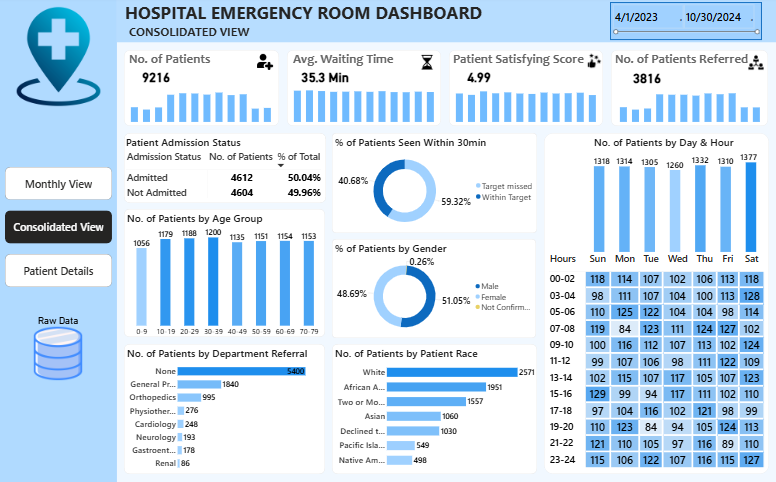

What the dashboard file says about the page in this screenshot:
{"tool":"powerbi","page":{"name":"Consolidated View","canvas":[4350,2700],"ordinal":1},"visuals":[{"type":"shape","box":[3422.6,280.1,879.5,425.7],"z":0},{"type":"shape","box":[694.6,745,1131.5,392.1],"z":1000},{"type":"shape","box":[0,0,655.4,2700],"z":2000},{"type":"shape","box":[658.1,0,3695,237.3],"z":3000},{"type":"textbox","box":[695.9,0,2049.8,172.6],"z":4000},{"type":"textbox","box":[717,128.8,705.8,100.8],"z":5000},{"type":"shape","box":[694.6,280.1,868.3,425.7],"z":6000},{"type":"card","fields":{"Values":["Hospital ER_Data.No. of Patients"]},"box":[733.8,364.1,280.1,123.2],"z":7000},{"type":"slicer","fields":{"Values":["Date Table.Date"]},"box":[3417,11.2,851.5,212.9],"z":8000},{"type":"textbox","box":[717.4,280.5,517.8,107.9],"z":9000},{"type":"columnChart","fields":{"Y":["Hospital ER_Data.No. of Patients"],"Category":["Date Table.Month Name"]},"box":[728.2,476.1,795.4,212.9],"z":10000},{"type":"shape","box":[1607.7,280.1,862.7,425.7],"z":11000},{"type":"card","fields":{"Values":["Hospital ER_Data.Avg Waiting Time"]},"box":[1674.9,364.1,291.3,123.2],"z":12000},{"type":"textbox","box":[1635.7,280.1,610.6,106.4],"z":13000},{"type":"columnChart","fields":{"Category":["Date Table.Month Name"],"Y":["Avg(Hospital ER_Data.Patient Waittime)"]},"box":[1641.3,476.1,795.4,212.9],"z":14000},{"type":"shape","box":[2515.1,280.1,862.7,425.7],"z":15000},{"type":"textbox","box":[2532,280.1,817.8,106.4],"z":16000},{"type":"card","fields":{"Values":["Avg(Hospital ER_Data.Patient Satisfaction Score)"]},"box":[2560,358.5,246.5,134.4],"z":17000},{"type":"columnChart","fields":{"Category":["Date Table.Month Name"],"Y":["Avg(Hospital ER_Data.Patient Satisfaction Score)"]},"box":[2548.8,476.1,795.4,212.9],"z":18000},{"type":"textbox","box":[3439.4,280.1,789.8,106.4],"z":19000},{"type":"card","fields":{"Values":["Hospital ER_Data.N. of Patients Referred"]},"box":[3461.8,364.1,324.9,128.8],"z":20000},{"type":"columnChart","fields":{"Category":["Date Table.Month Name"],"Y":["Hospital ER_Data.No. of Patients Referred"]},"box":[3467.4,476.1,795.4,212.9],"z":21000},{"type":"pivotTable","title":"Patient Admission Status","fields":{"Rows":["Hospital ER_Data.Admission Status"],"Values":["Hospital ER_Data.No. of Patients1","Hospital ER_Data.No. of Patients"]},"box":[700.2,756.2,1109.1,364.1],"z":22000},{"type":"shape","box":[694.6,1170.7,1125.9,717],"z":23000},{"type":"columnChart","fields":{"Category":["Hospital ER_Data.Age Group"],"Y":["Hospital ER_Data.No. of Patients"]},"box":[705.8,1182,1114.7,711.4],"z":24000},{"type":"shape","box":[694.6,1927,1125.9,728.2],"z":25000},{"type":"barChart","fields":{"Y":["Hospital ER_Data.No. of Patients"],"Category":["Hospital ER_Data.Department Referral"]},"box":[705.8,1938.2,1103.5,717],"z":26000},{"type":"shape","box":[1859.8,745,1148.3,560.2],"z":27000},{"type":"donutChart","title":"% of Patients Seen Within 30min","fields":{"Category":["Hospital ER_Data.Waittime Status"],"Y":["Hospital ER_Data.No. of Patients"]},"box":[1871,756.2,1125.9,549],"z":28000},{"type":"shape","box":[1859.8,1338.8,1142.7,554.6],"z":29000},{"type":"donutChart","title":"% of Patients by Gender","fields":{"Y":["Hospital ER_Data.No. of Patients"],"Category":["Hospital ER_Data.Patient Gender"]},"box":[1871,1350,1125.9,543.4],"z":30000},{"type":"shape","box":[1859.8,1927,1148.3,728.2],"z":31000},{"type":"barChart","fields":{"Y":["Hospital ER_Data.No. of Patients"],"Category":["Hospital ER_Data.Patient Race"]},"box":[1871,1938.2,1131.5,705.8],"z":32000},{"type":"shape","box":[3047.3,745,1260.4,1910.2],"z":33000},{"type":"pivotTable","fields":{"Rows":["Hospital ER_Data.Waittime Interval"],"Columns":["Date Table.Day Name"],"Values":["Hospital ER_Data.No. of Patients"]},"box":[3069.7,1406,1215.6,1249.2],"z":34000},{"type":"columnChart","title":"No. of Patients by Day & Hour","fields":{"Category":["Date Table.Day Name"],"Y":["Hospital ER_Data.No. of Patients"]},"box":[3321.8,756.2,924.3,661],"z":35000},{"type":"image","box":[1422.8,296.9,123.2,100],"z":36000},{"type":"image","box":[2330.3,302.5,123.2,92],"z":37000},{"type":"image","box":[3282.6,285.7,95.2,106.4],"z":38000},{"type":"image","box":[4184.4,302.5,100.8,95.2],"z":39000},{"type":"image","box":[44.8,33.6,565.8,565.8],"z":40000},{"type":"pageNavigator","box":[28,935.5,599.4,672.2],"z":41000},{"type":"image","title":"Raw Data","box":[162.4,1764.5,324.9,369.7],"z":42000}]}

Visuals, with their boxes in screenshot pixels (x1, y1, x2, y2), scaled from the page's 4350x2700 canvas onto the 776x482 screenshot:
shape: locate(611, 50, 767, 126)
shape: locate(124, 133, 326, 203)
shape: locate(0, 0, 117, 481)
shape: locate(117, 0, 775, 42)
textbox: locate(124, 0, 490, 31)
textbox: locate(128, 23, 254, 41)
shape: locate(124, 50, 279, 126)
card - Hospital ER_Data.No. of Patients: locate(131, 65, 181, 87)
slicer - Date Table.Date: locate(610, 2, 761, 40)
textbox: locate(128, 50, 220, 69)
columnChart - Hospital ER_Data.No. of Patients x Date Table.Month Name: locate(130, 85, 272, 123)
shape: locate(287, 50, 441, 126)
card - Hospital ER_Data.Avg Waiting Time: locate(299, 65, 351, 87)
textbox: locate(292, 50, 401, 69)
columnChart - Date Table.Month Name x Avg(Hospital ER_Data.Patient Waittime): locate(293, 85, 435, 123)
shape: locate(449, 50, 603, 126)
textbox: locate(452, 50, 598, 69)
card - Avg(Hospital ER_Data.Patient Satisfaction Score): locate(457, 64, 501, 88)
columnChart - Date Table.Month Name x Avg(Hospital ER_Data.Patient Satisfaction Score): locate(455, 85, 597, 123)
textbox: locate(614, 50, 754, 69)
card - Hospital ER_Data.N. of Patients Referred: locate(618, 65, 676, 88)
columnChart - Date Table.Month Name x Hospital ER_Data.No. of Patients Referred: locate(619, 85, 760, 123)
"Patient Admission Status" pivotTable: locate(125, 135, 323, 200)
shape: locate(124, 209, 325, 337)
columnChart - Hospital ER_Data.Age Group x Hospital ER_Data.No. of Patients: locate(126, 211, 325, 338)
shape: locate(124, 344, 325, 474)
barChart - Hospital ER_Data.No. of Patients x Hospital ER_Data.Department Referral: locate(126, 346, 323, 474)
shape: locate(332, 133, 537, 233)
"% of Patients Seen Within 30min" donutChart: locate(334, 135, 535, 233)
shape: locate(332, 239, 536, 338)
"% of Patients by Gender" donutChart: locate(334, 241, 535, 338)
shape: locate(332, 344, 537, 474)
barChart - Hospital ER_Data.No. of Patients x Hospital ER_Data.Patient Race: locate(334, 346, 536, 472)
shape: locate(544, 133, 768, 474)
pivotTable - Hospital ER_Data.Waittime Interval x Date Table.Day Name: locate(548, 251, 764, 474)
"No. of Patients by Day & Hour" columnChart: locate(593, 135, 757, 253)
image: locate(254, 53, 276, 71)
image: locate(416, 54, 438, 70)
image: locate(586, 51, 603, 70)
image: locate(746, 54, 764, 71)
image: locate(8, 6, 109, 107)
pageNavigator: locate(5, 167, 112, 287)
"Raw Data" image: locate(29, 315, 87, 381)
